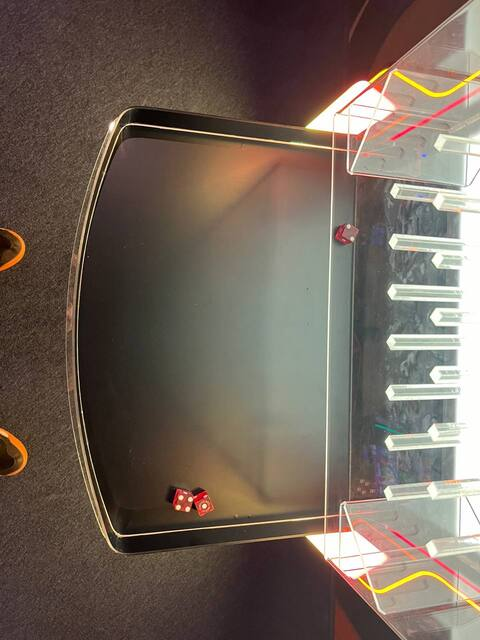four: (172, 491, 196, 515)
one: (192, 495, 216, 515)
two: (340, 222, 362, 244)
